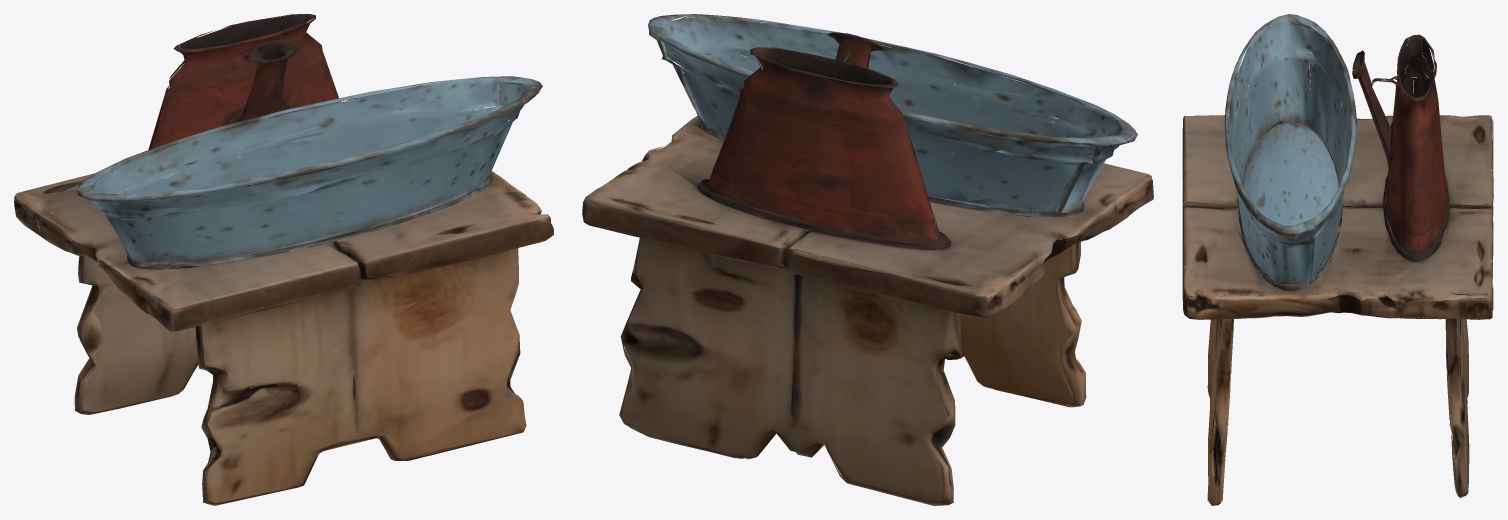
The model's file is palangana.glb.
3 renders of one model, left to right at view 1: azimuth 30°, elevation 25°; view 2: azimuth 150°, elevation 25°; view 3: azimuth 270°, elevation 25°, orthographic. The views are drawn at different scales.
Parts seen in each view (by area): view 1: geometry_0; view 2: geometry_0; view 3: geometry_0.
Part boxes in pixels (x1,y1,x2,y2): geometry_0: [14, 14, 553, 505]; geometry_0: [582, 14, 1153, 505]; geometry_0: [1182, 14, 1493, 505].
Bounding box in the file's own units: 0.7005 × 0.5505 × 0.421.
1 material, 1 textured.
